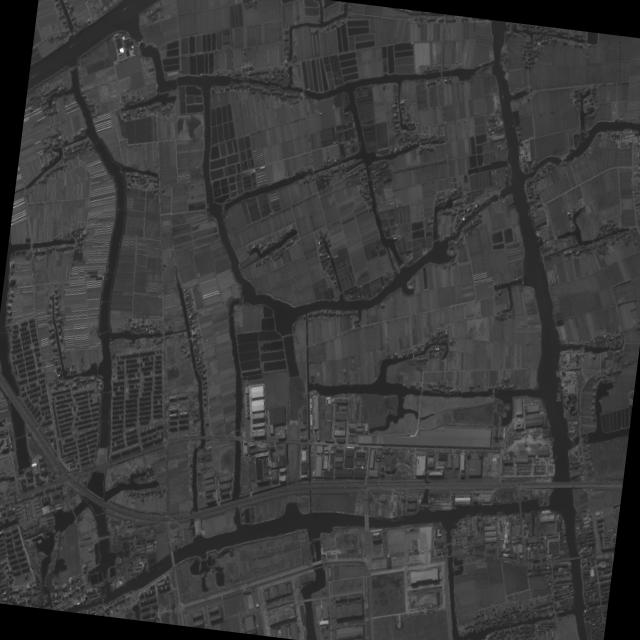ship: (30, 71, 37, 78), (535, 236, 541, 242), (68, 41, 75, 46), (500, 89, 503, 100), (537, 243, 543, 248), (552, 453, 556, 460), (121, 5, 127, 9), (384, 516, 390, 520), (390, 518, 397, 521), (396, 515, 403, 518), (551, 435, 553, 445), (558, 381, 560, 390), (555, 391, 557, 400), (558, 391, 560, 400), (506, 401, 508, 409), (507, 401, 509, 409), (510, 118, 512, 126), (556, 359, 558, 367), (502, 408, 504, 416), (503, 409, 505, 416), (501, 401, 503, 408), (502, 401, 504, 408), (503, 401, 505, 408), (504, 401, 506, 408), (508, 402, 510, 409), (504, 409, 506, 416), (397, 517, 404, 519), (557, 380, 558, 389), (557, 391, 558, 400), (555, 369, 556, 376), (556, 369, 557, 376), (501, 408, 502, 415), (498, 60, 499, 65), (557, 370, 558, 375), (555, 337, 559, 338)
storage-tank: (438, 532, 440, 535), (436, 528, 438, 530), (436, 530, 438, 532), (436, 532, 438, 534)
